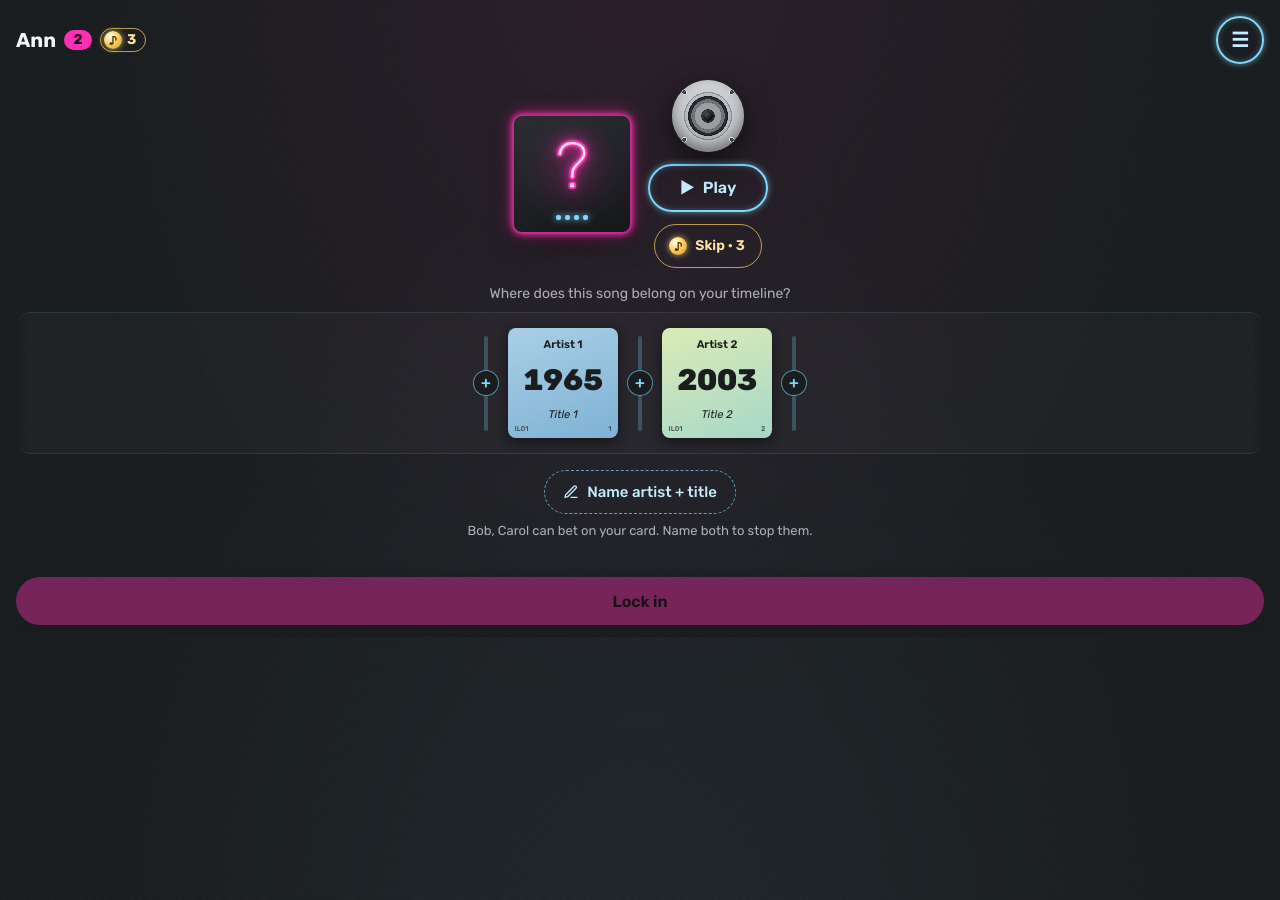
Test: GameScreen with tokens and bets: the turn › shows the token chip, Skip · 3, a collapsed "Name artist + title" and Lock in instead of Reveal
Expected: the picture with test id "current-player-tokens" shows "3", [127, 31, 136, 48]
Expected: the button with test id "btn-skip-song" shows "Skip · 3", [654, 224, 762, 268]
Click the 2nd button with test id "timeline-slot".
click(640, 383)  # box [618, 324, 662, 442]
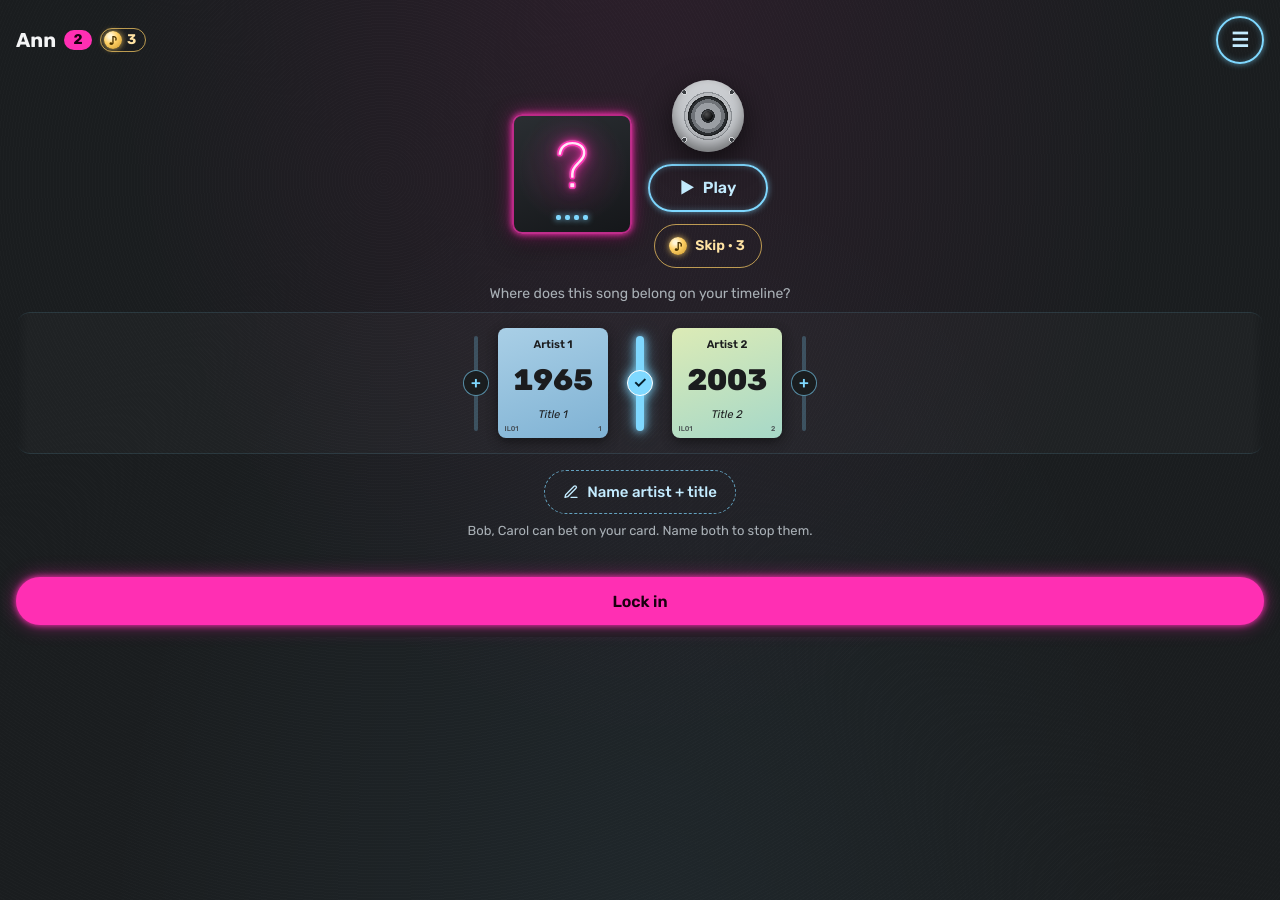
Expected: the button with test id "btn-lock-in" is enabled, [16, 577, 1264, 625]
